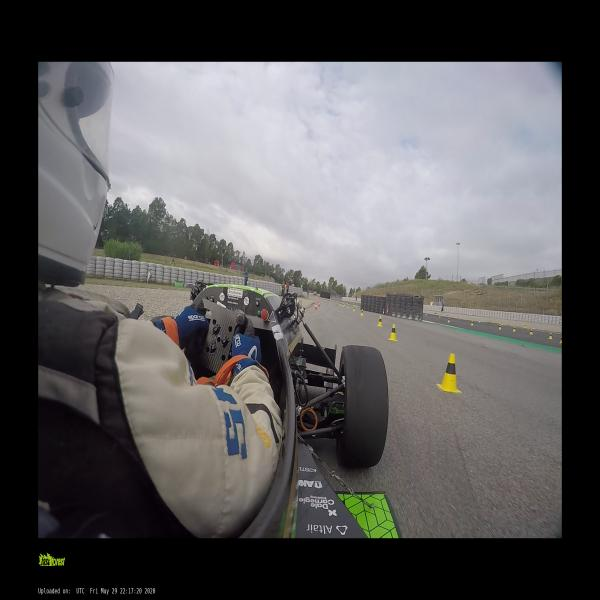orange_cone: (314, 304, 318, 310), (318, 302, 320, 306)
yellow_cone: (436, 354, 461, 392), (388, 324, 398, 341), (377, 317, 382, 326), (528, 329, 533, 335), (360, 309, 364, 316), (559, 335, 562, 344), (548, 332, 552, 338), (512, 326, 516, 332), (470, 320, 474, 326), (498, 325, 502, 330), (352, 306, 355, 312), (447, 318, 450, 323), (347, 304, 349, 309), (342, 303, 344, 307)
